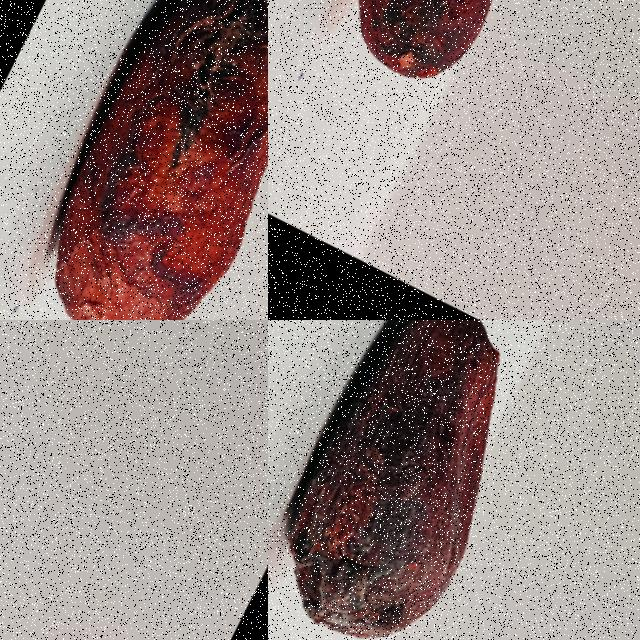Fine_cocoabeans: (268, 320, 629, 639), (0, 0, 267, 319), (268, 0, 639, 161), (0, 320, 107, 623)
